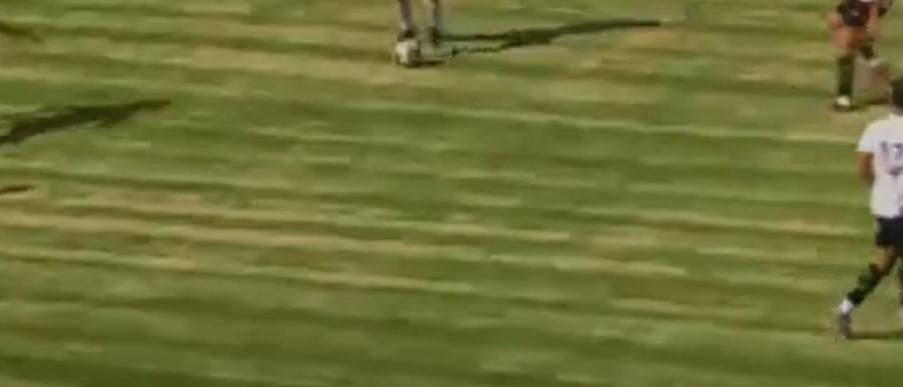ball: (384, 33, 428, 72)
